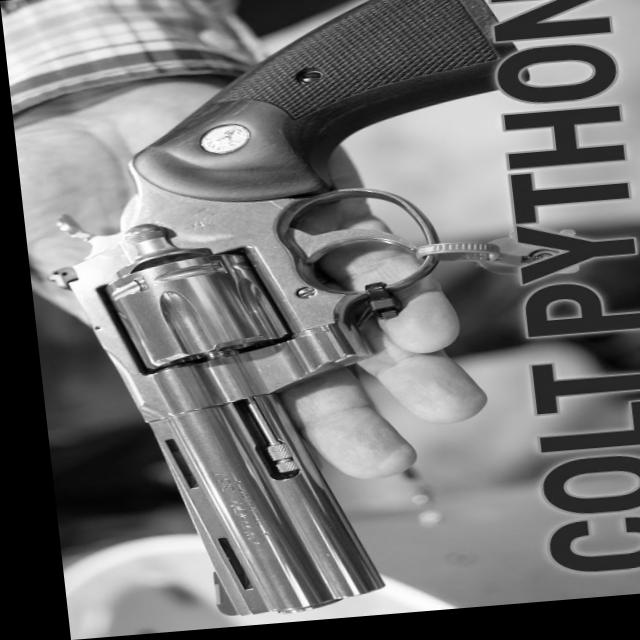handgun: (16, 0, 590, 636)
